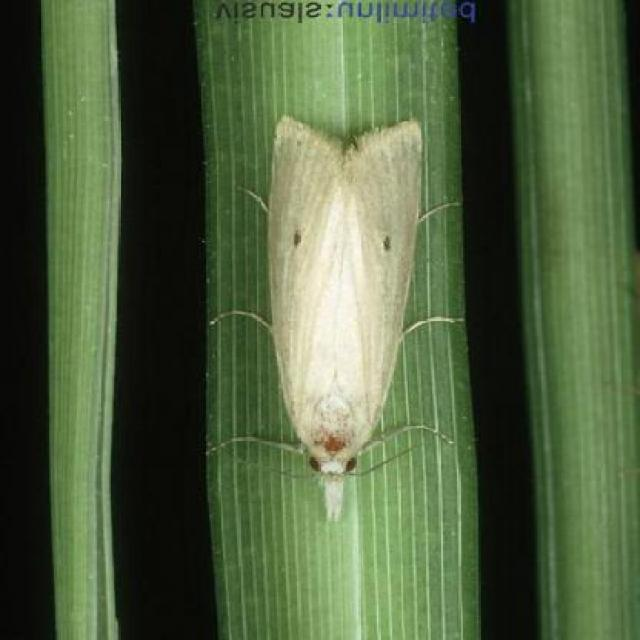stem-borer: (222, 114, 456, 523)
